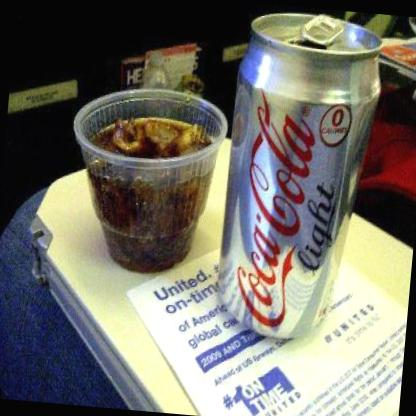alumunium_can: (216, 5, 389, 348)
